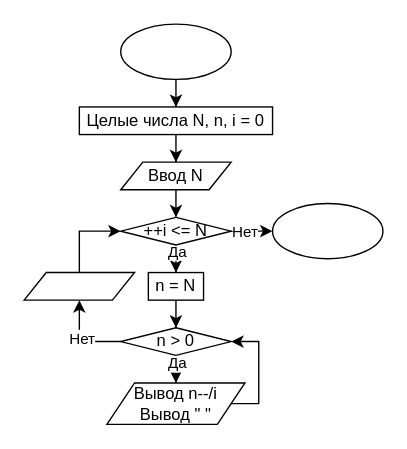
Image size: 407x449. Some labels were removed from this diagram. The shapes that lost their labels are listed below. From the top down, each one's centre as x and y in pixels, then its label:
point (175, 51): Начало
point (327, 230): Конец
point (79, 285): Вывод "\n"
